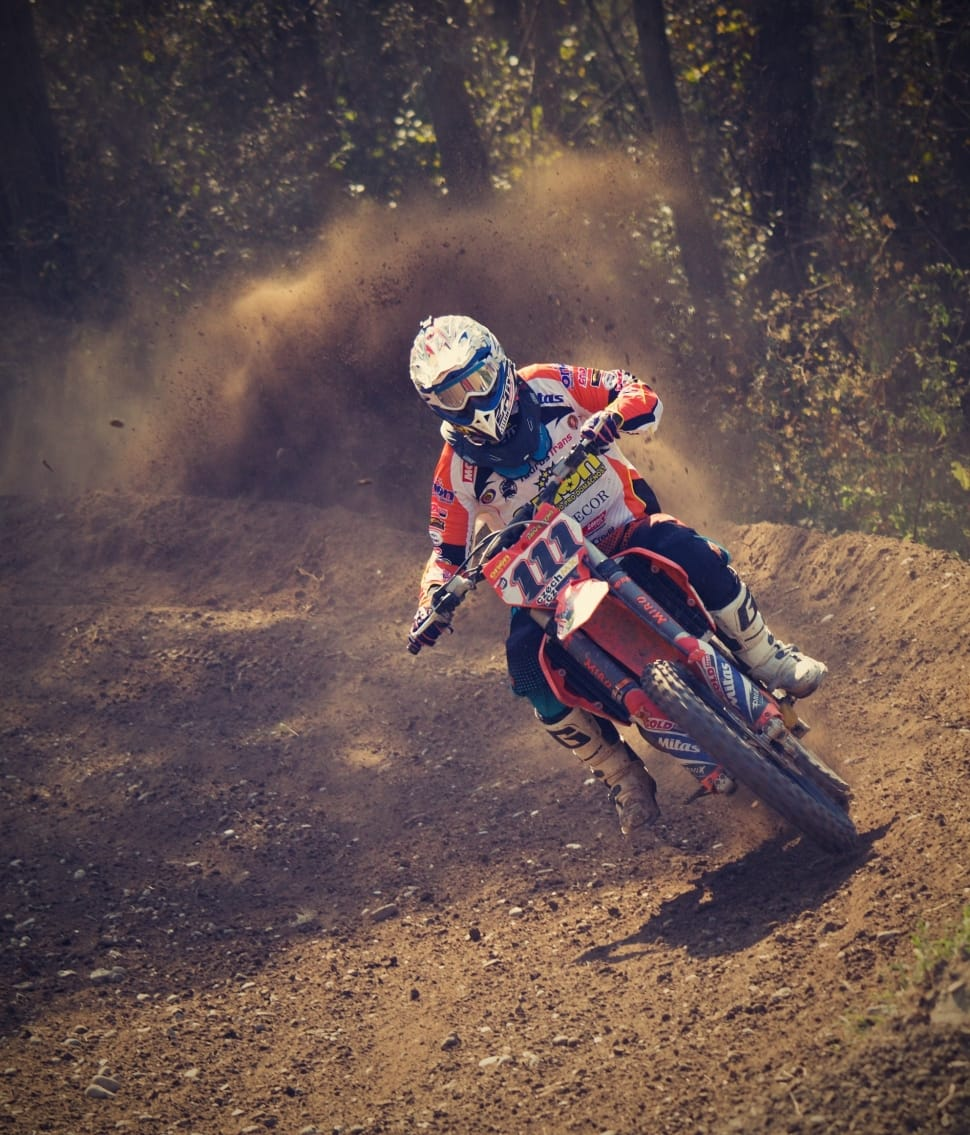helmet: (305, 208, 903, 884)
